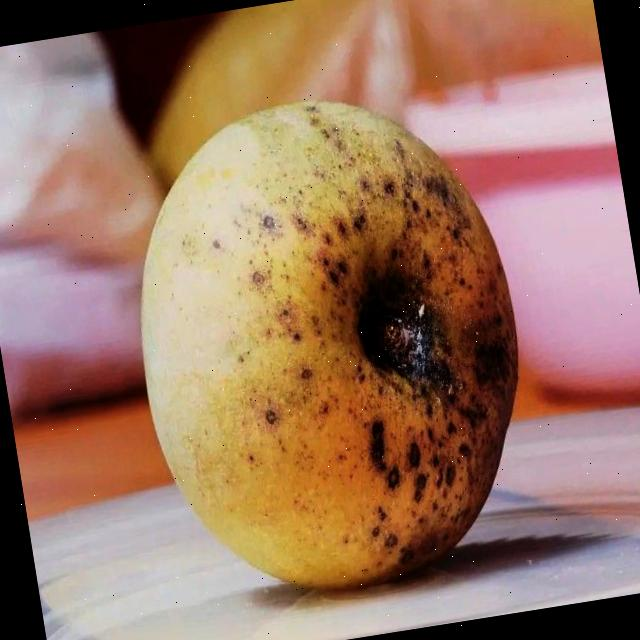rotten apple: (79, 55, 588, 640)
